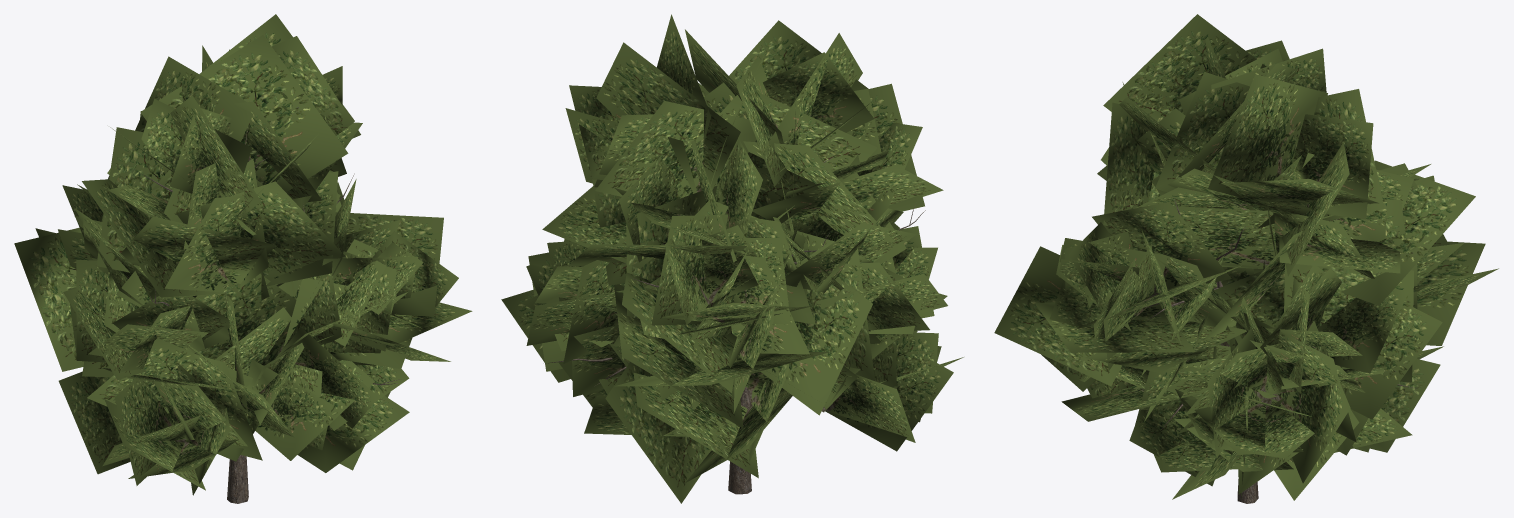
The model's file is tree_medium_02.fbx.
3 renders of one model, left to right at view 1: azimuth 30°, elevation 25°; view 2: azimuth 150°, elevation 25°; view 3: azimuth 270°, elevation 25°, orthographic. The views are drawn at different scales.
Visible parts, largest first — view 1: tree_medium_02; view 2: tree_medium_02; view 3: tree_medium_02.
Part boxes in pixels (<box>): tree_medium_02: <box>14,14,472,503</box>; tree_medium_02: <box>501,14,963,503</box>; tree_medium_02: <box>994,14,1498,503</box>.
Size of the model in its own units: 18.02 by 21.67 by 21.57.
